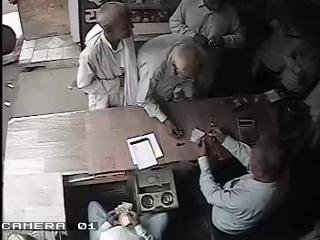Normal: (196, 104, 291, 240), (134, 33, 212, 136), (194, 0, 248, 97), (96, 205, 152, 240), (168, 0, 210, 37)
shoplifting: (76, 0, 138, 112)
